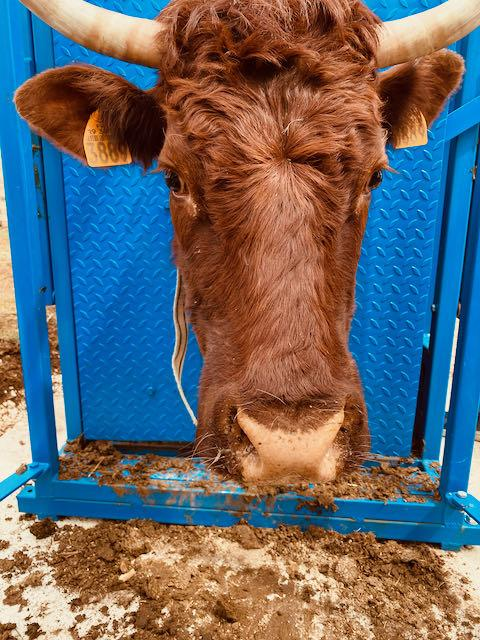muzzles: (186, 381, 370, 493)
